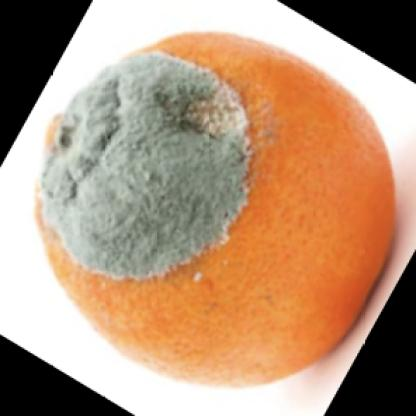rotten: (35, 31, 398, 388)
